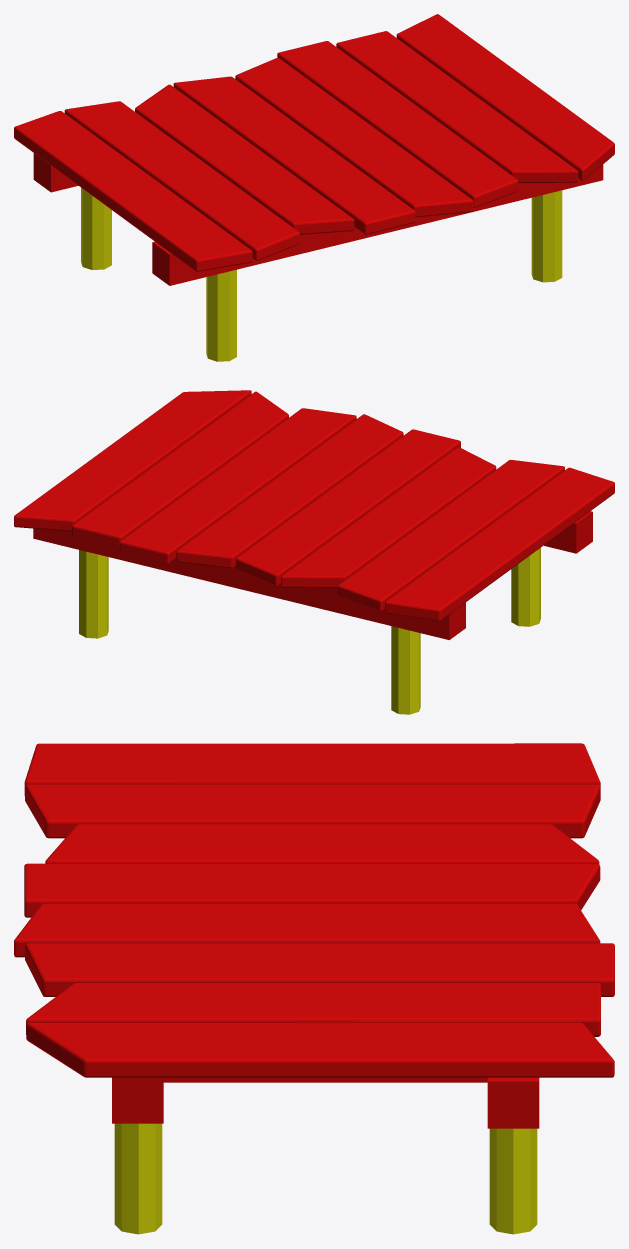
File: prp_Table.fbx
3 renders of one model, top to bottom at view 1: azimuth 30°, elevation 25°; view 2: azimuth 150°, elevation 25°; view 3: azimuth 270°, elevation 25°, orthographic. The views are drawn at different scales.
Visible parts, largest first — view 1: prp_Table; view 2: prp_Table; view 3: prp_Table.
Boxes of the visible parts, x1,y1,x2,y2 form: prp_Table: (14,14,614,361); prp_Table: (14,390,614,714); prp_Table: (14,743,614,1234).
Bounding box in the file's own units: 1.8 × 1.42 × 0.5225.
